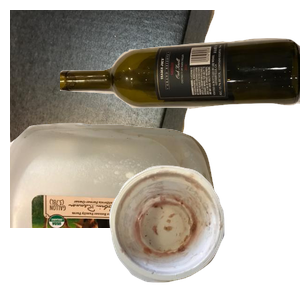cardboard: (10, 10, 217, 190)
glass: (60, 36, 300, 147)
plastic: (10, 120, 220, 300)
trash: (107, 163, 300, 300)
